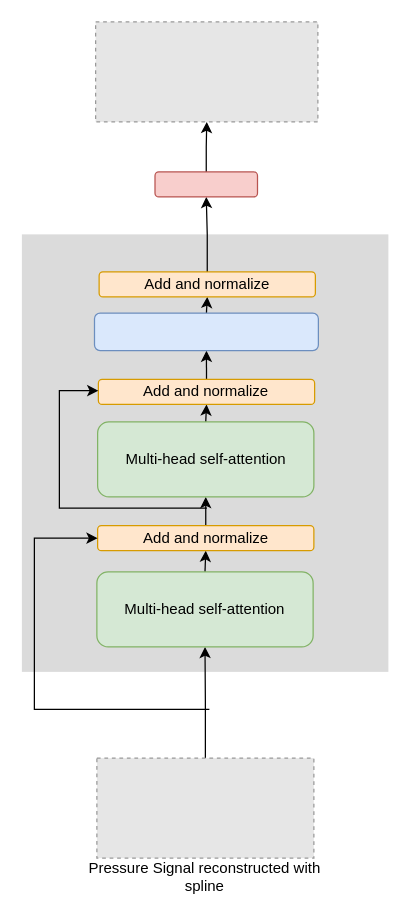
Some shapes in this 410 by 918 pixel diagram are drawn without their labels. Grey dashed boxes stand in for pictures. The shapes that lost their labels are listed below. From the top down, each one's box as (x1, y1, x2, y2) in pixels, then its label:
(154, 171, 258, 197): Linear
(93, 312, 318, 351): Feedforward
